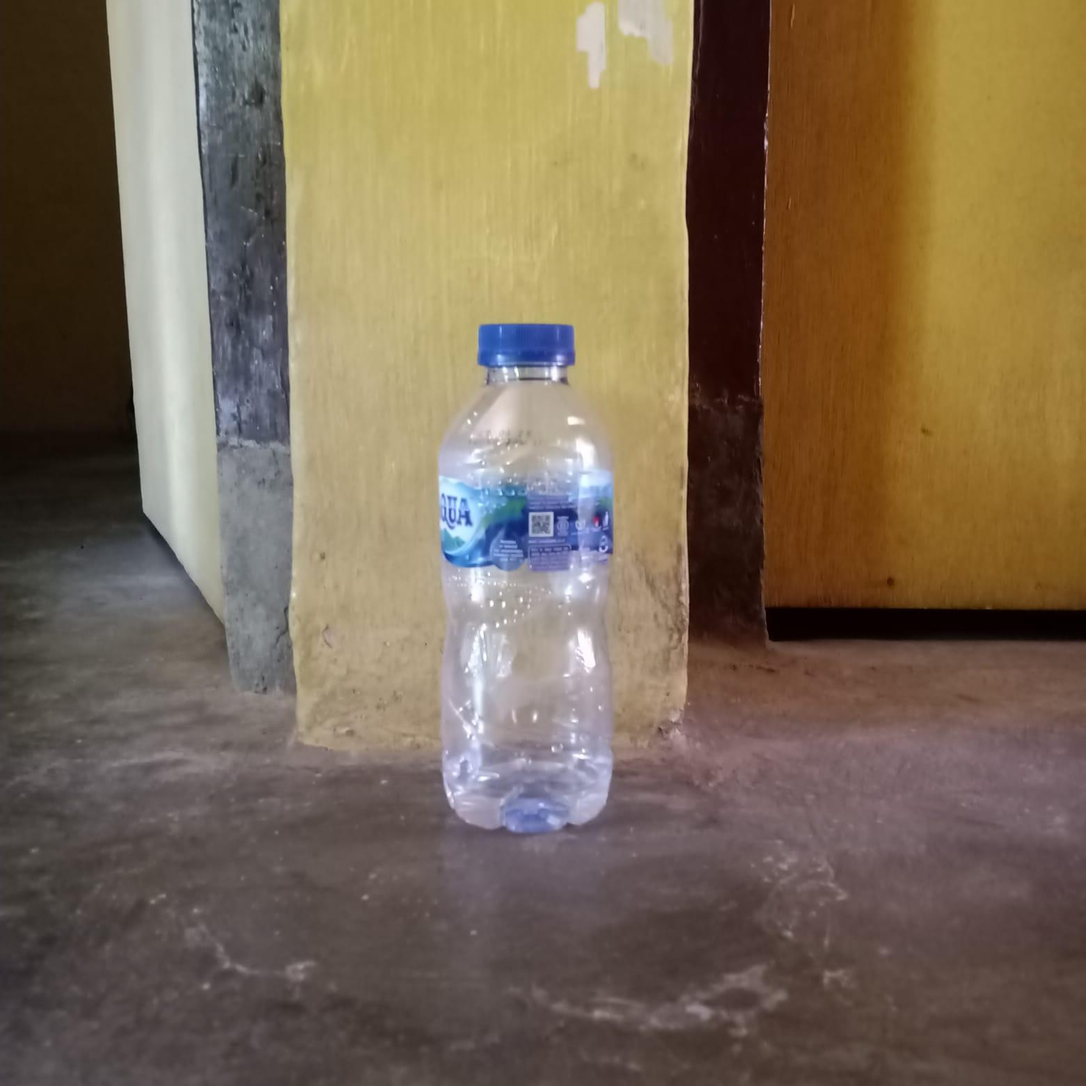Plastik: (439, 324, 616, 829)
